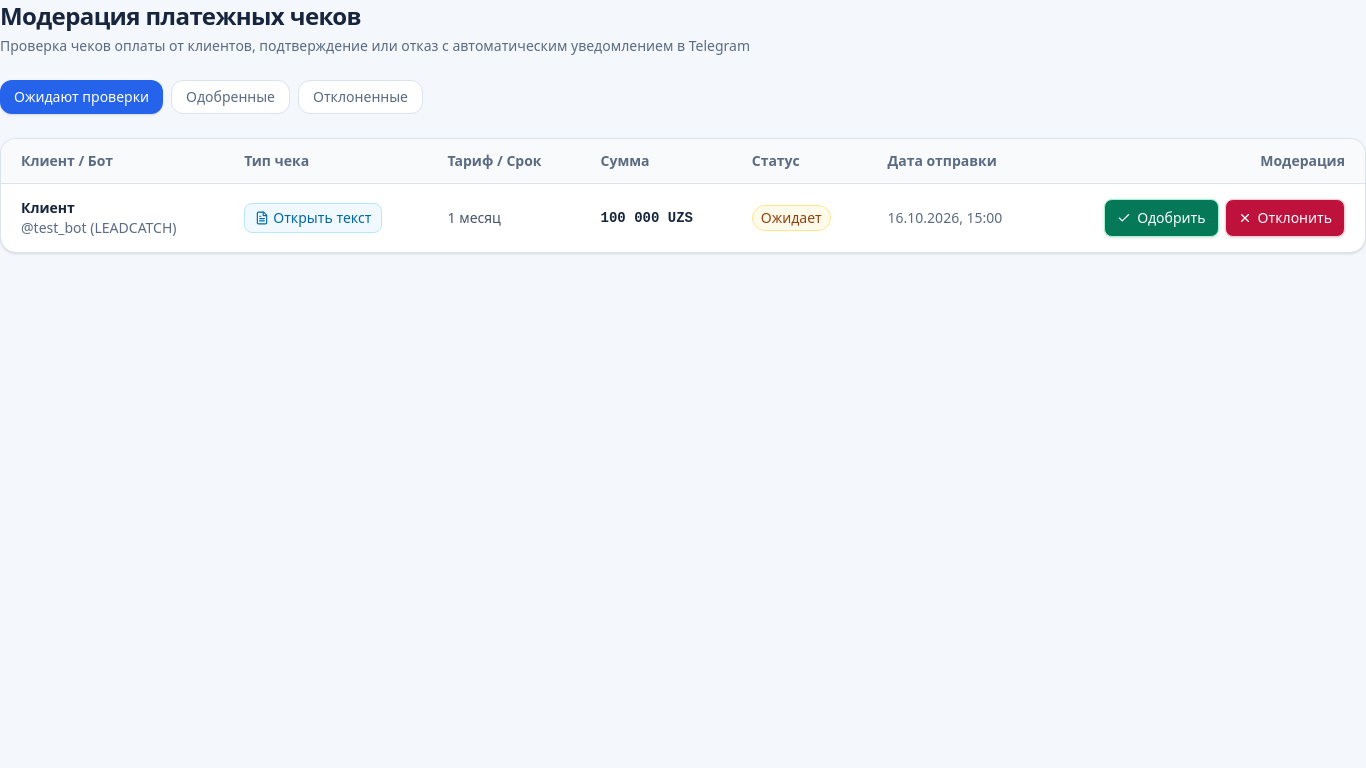
Test: Модерация оплаты › сохраняет причину при ошибке отклонения и позволяет повторить запрос
expect the text "Клиент" is shown: met, box [21,198,75,217]
Click the button "Отклонить".
click(1285, 218)  # box [1224,199,1345,237]
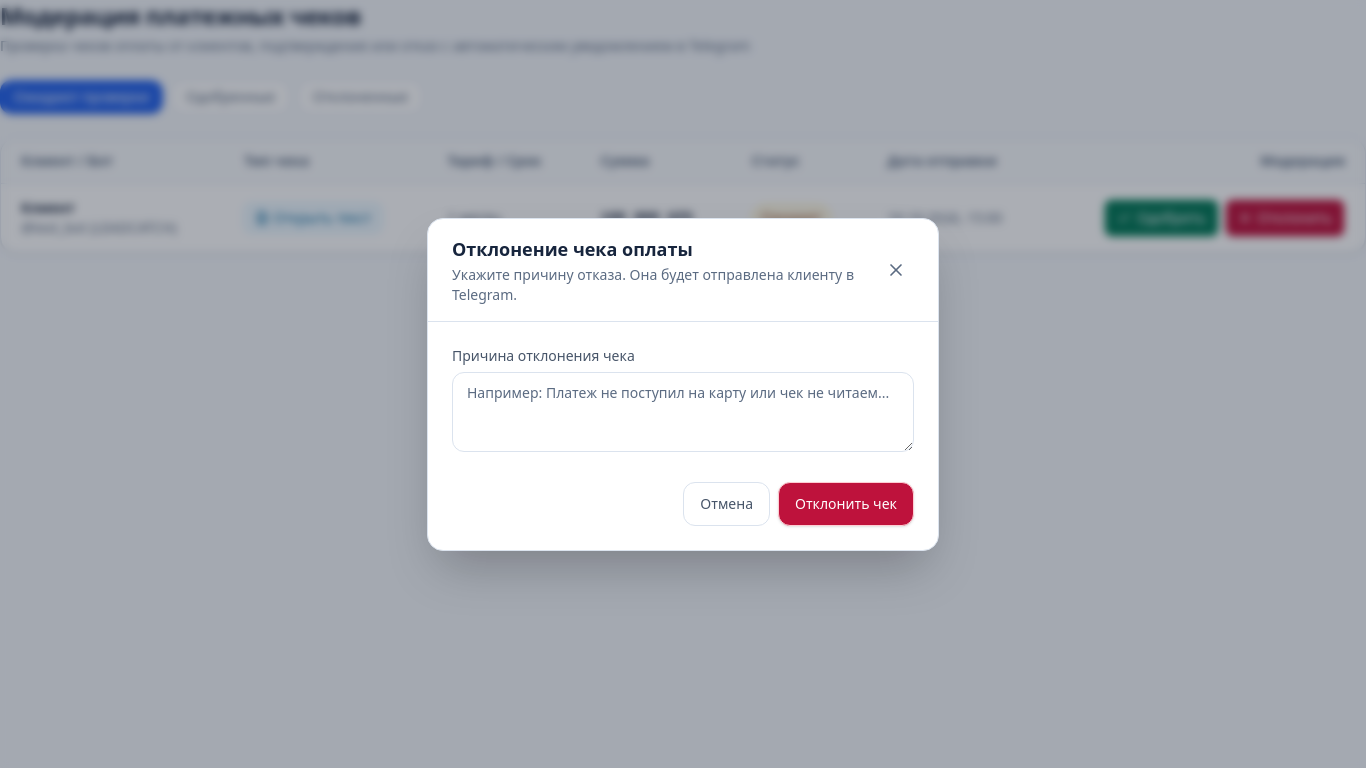
Type "Платёж не поступил" into the text box labelled "Причина отклонения чека".
click(683, 412); type("Платёж не поступил")  # box [452,372,914,452]
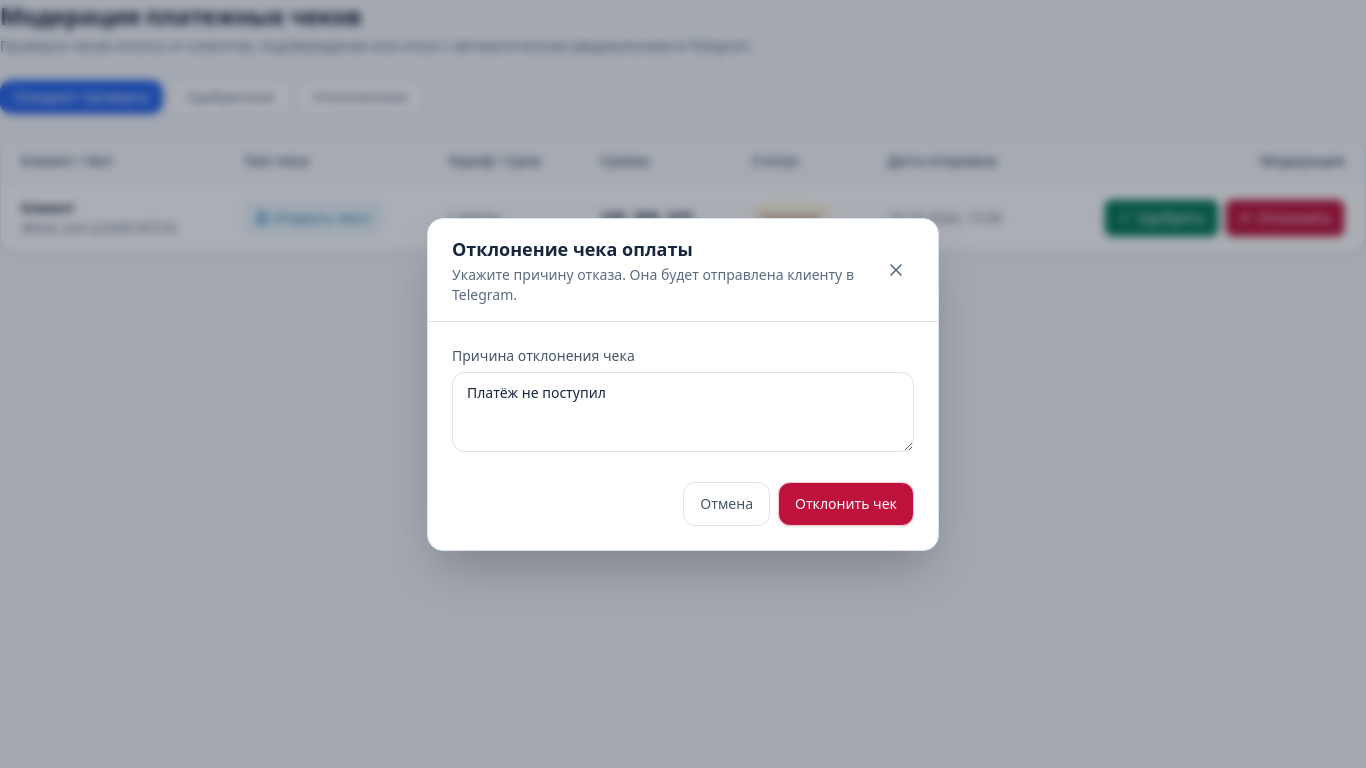
Click the button "Отклонить чек".
click(846, 504)  # box [778,482,914,526]
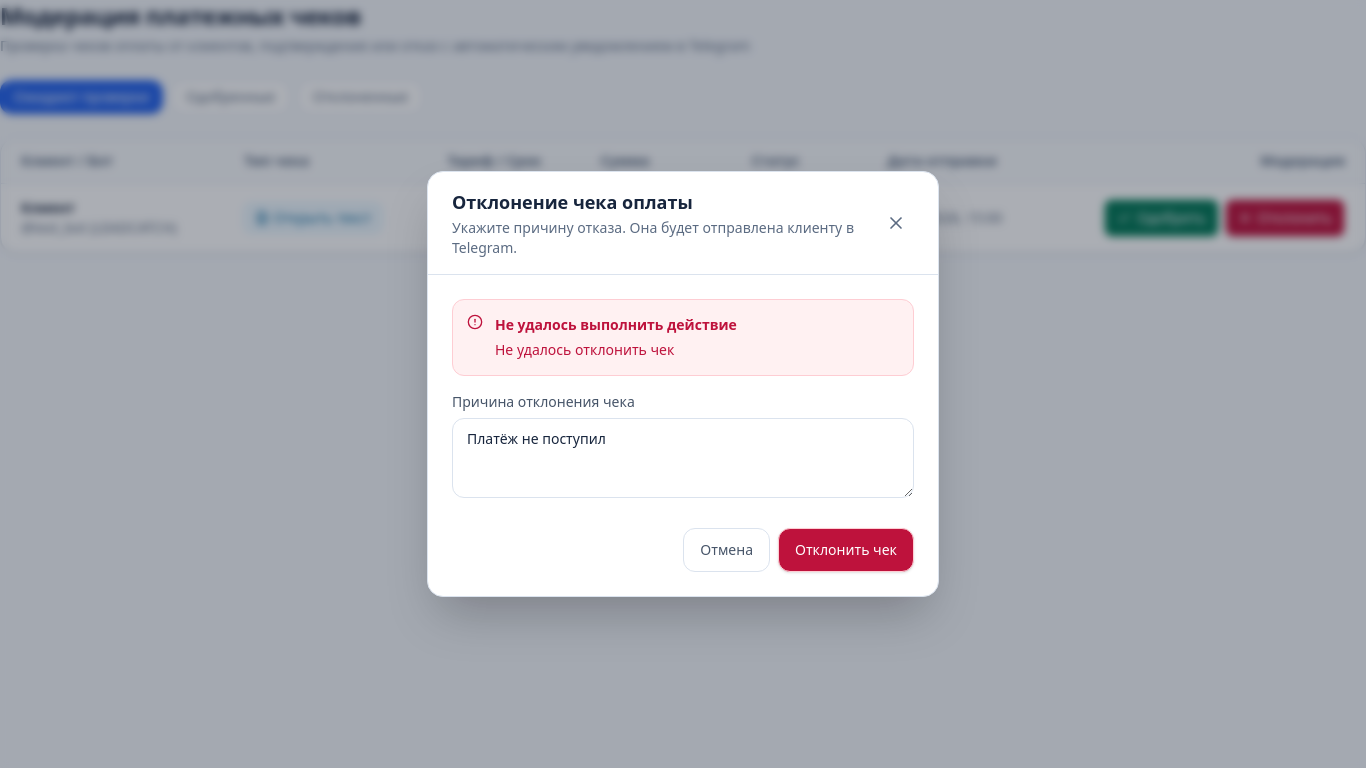
expect the text "Не удалось отклонить чек" is shown: met, box [495,340,674,358]
Click the button "Отклонить чек".
click(846, 550)  # box [778,528,914,572]
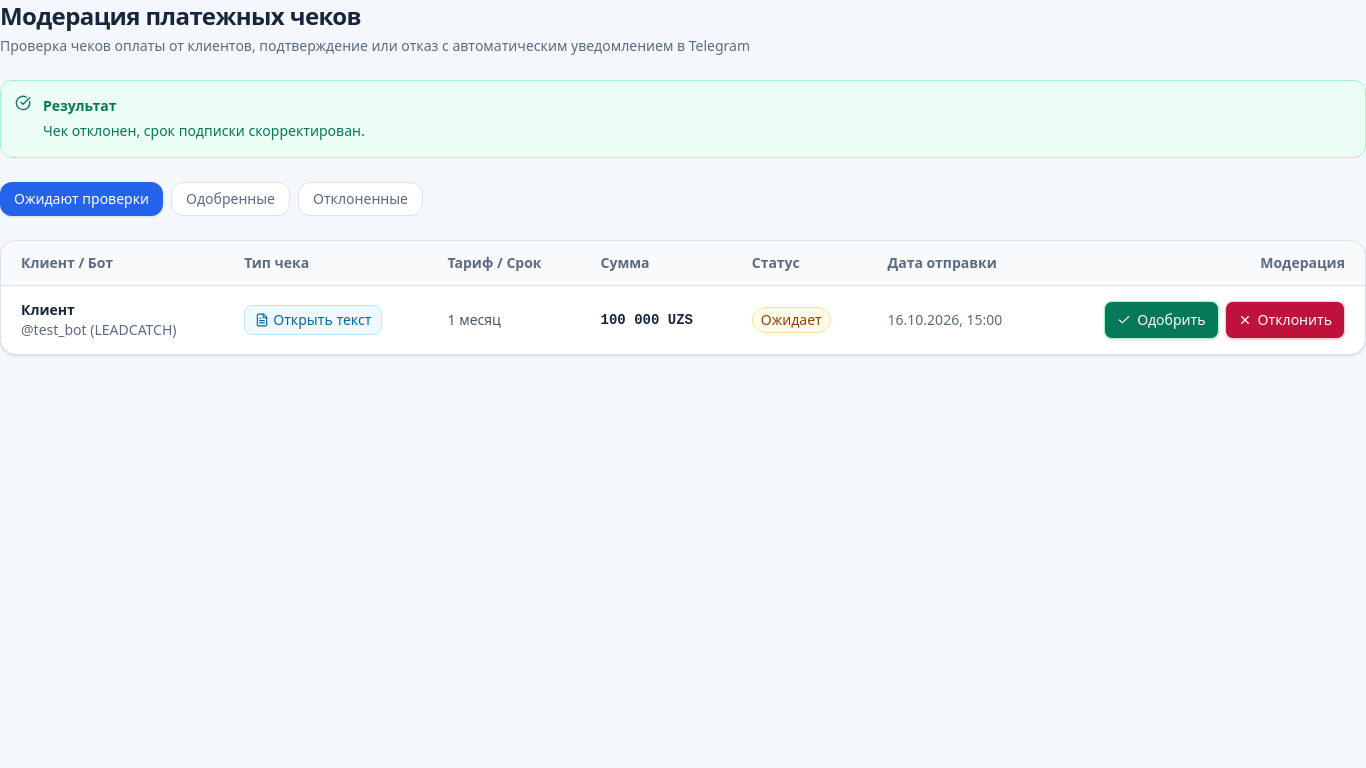
expect the text "Чек отклонен, срок подписки скорректирован." is shown: met, box [43,120,365,143]
expect the dialog is gone: met
